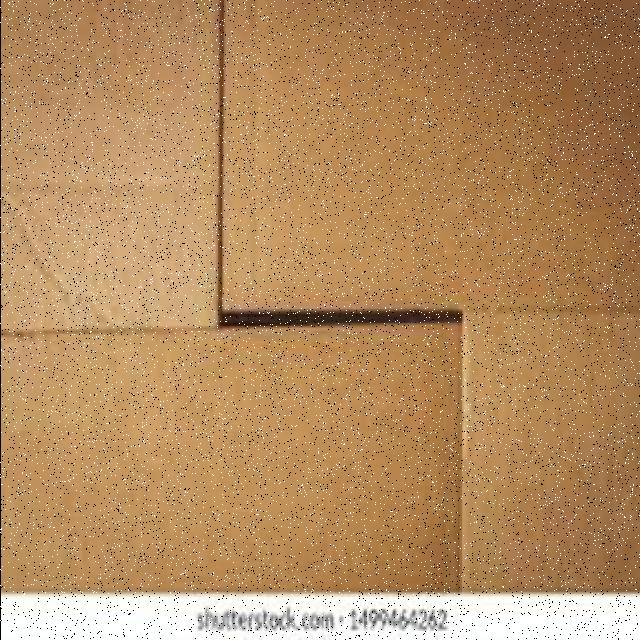defect: (1, 1, 637, 592)
